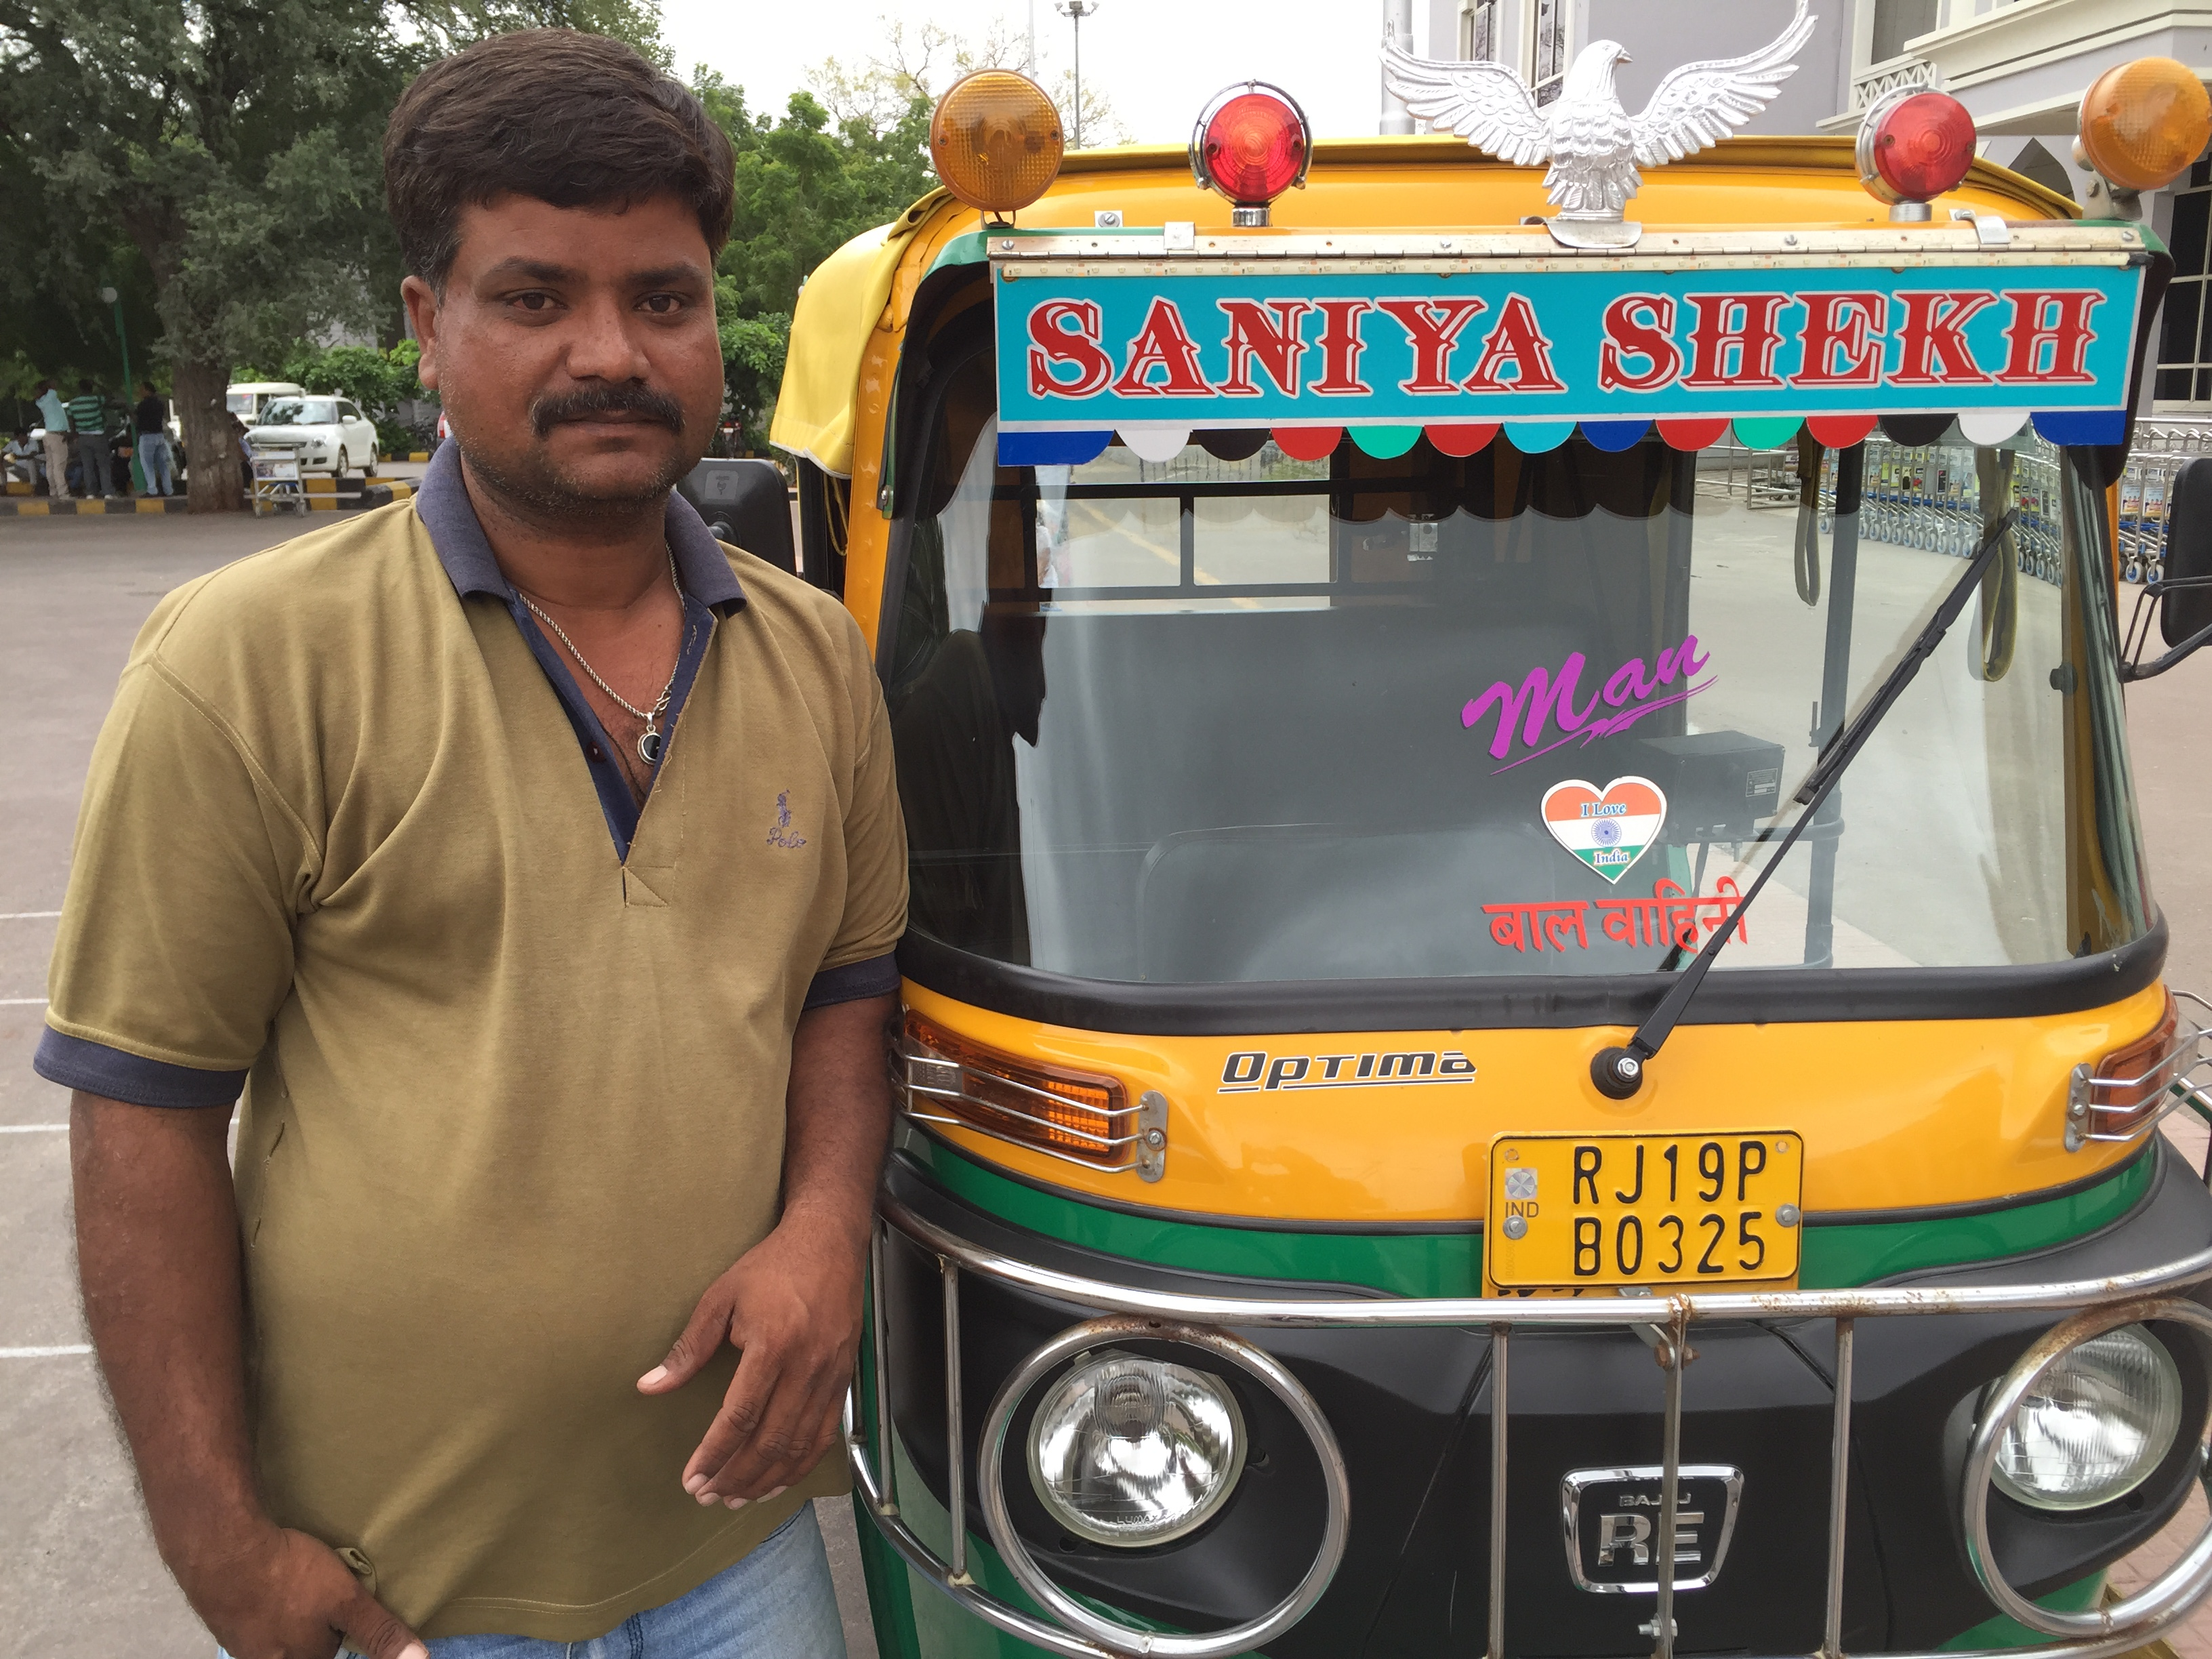doublelinenumberplate: (1483, 1129, 1813, 1287)
